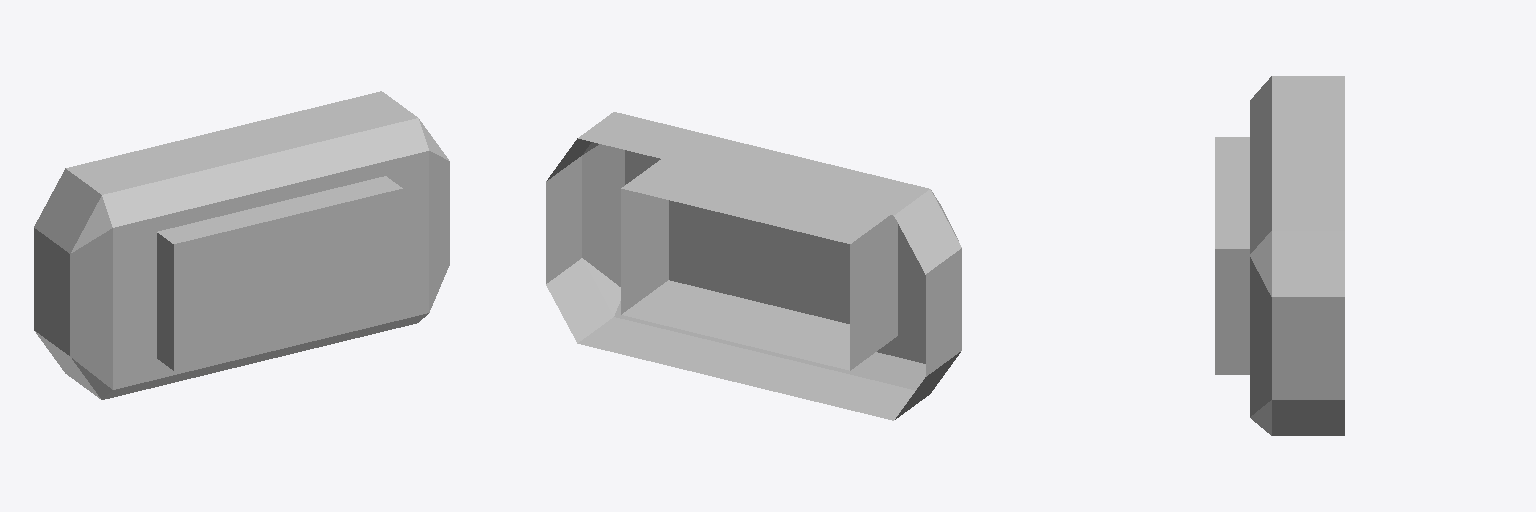
The model's file is RectButton.obj.
The picture shows the model from 3 angles: view 1: azimuth 30°, elevation 25°; view 2: azimuth 150°, elevation 25°; view 3: azimuth 270°, elevation 25°; orthographic projection.
Parts seen in each view (by area): view 1: RectButton-Housing, RectButton-Button; view 2: RectButton-Housing, RectButton-Button; view 3: RectButton-Housing, RectButton-Button.
Part boxes in pixels (left/top/right/bottom): RectButton-Housing: left=34, top=91, right=449, bottom=399; RectButton-Button: left=157, top=176, right=402, bottom=370; RectButton-Housing: left=546, top=112, right=961, bottom=420; RectButton-Button: left=621, top=159, right=897, bottom=370; RectButton-Housing: left=1250, top=76, right=1344, bottom=435; RectButton-Button: left=1215, top=137, right=1249, bottom=374.
Bounding box in the file's own units: 0.6 × 0.3098 × 0.1768.